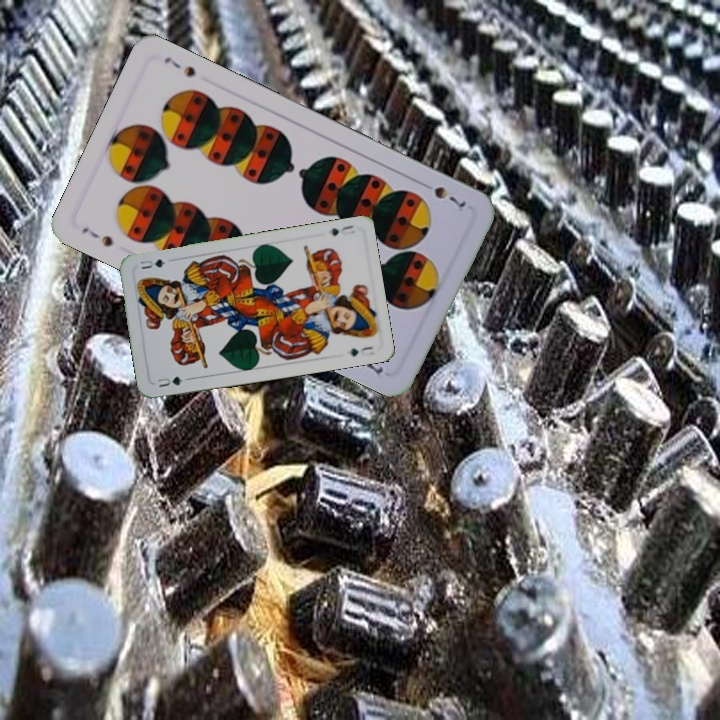GU: (153, 372, 186, 390), (328, 221, 358, 239)
S7: (416, 177, 469, 212), (77, 223, 116, 250)
